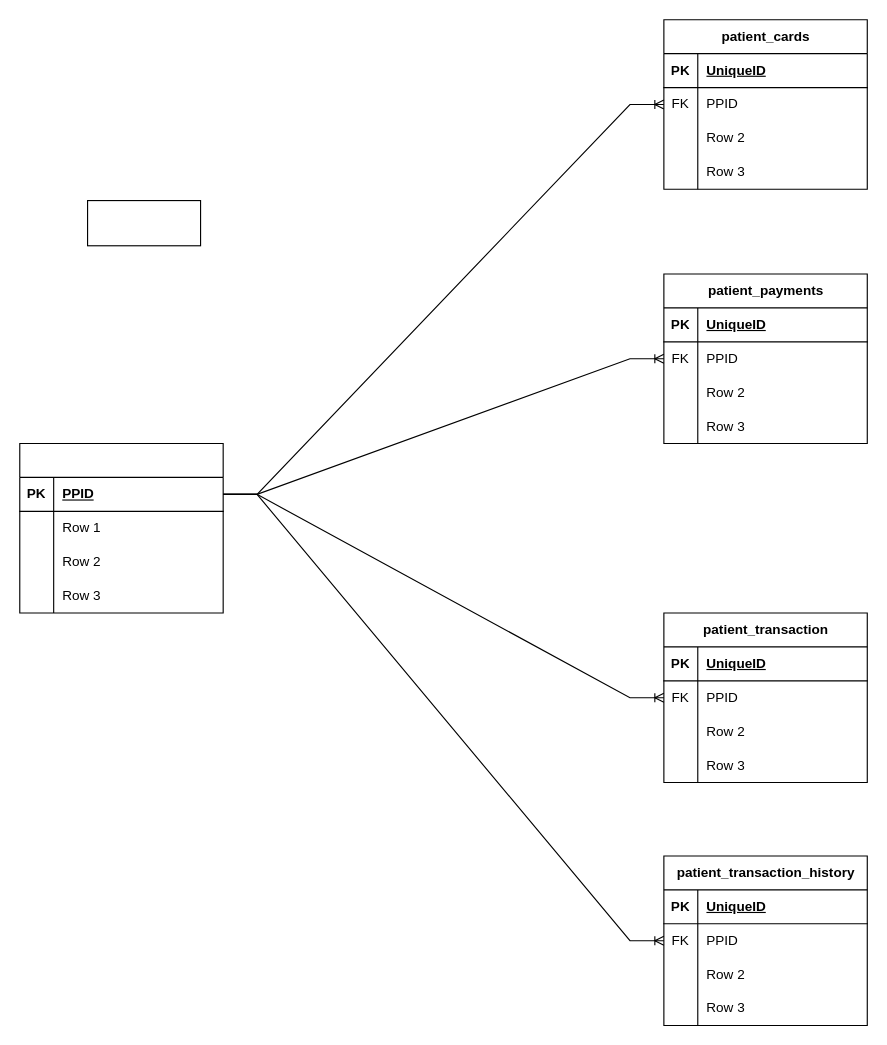
The diagram is 887 pixels wide and 1045 high, and some of its shapes have lost their labels. Here are the shapes that lost their labels. From the top down, the box of each, then its label:
(86, 199, 201, 246): Entity
(19, 442, 223, 613): Preferred Partner
